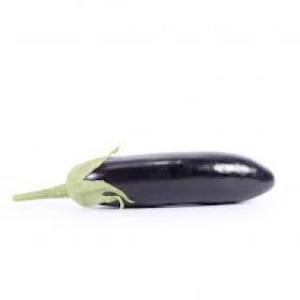eggplant: (57, 152, 276, 206)
